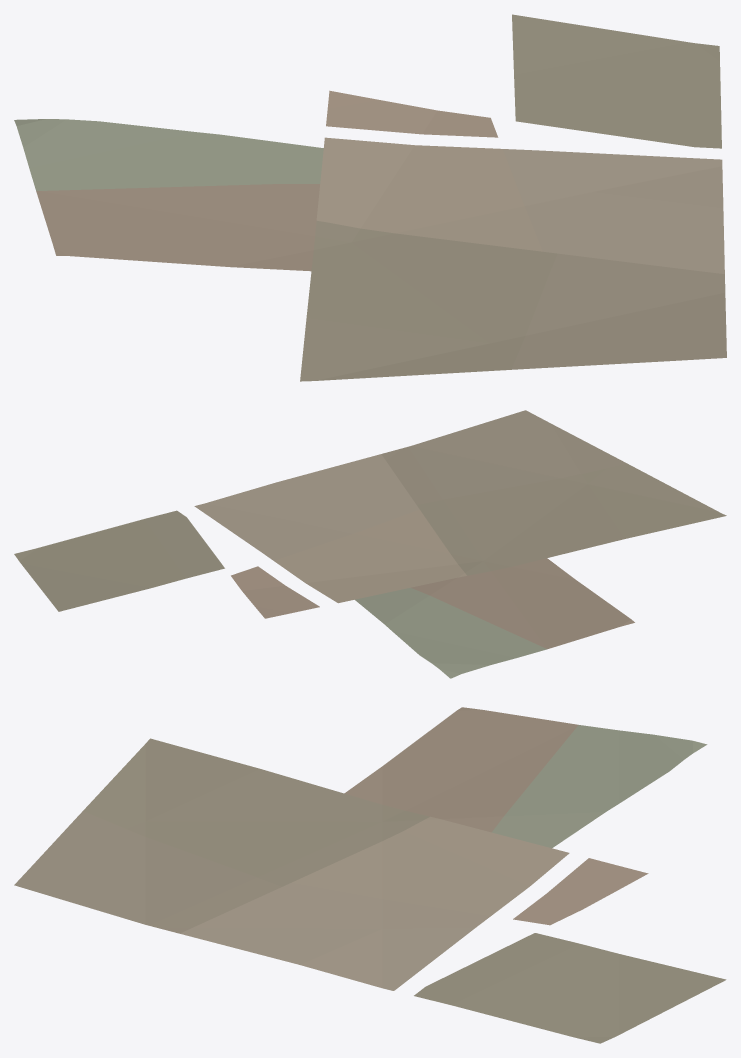
The model's file is farm_-3_16_soil.glb.
3 views of the same model, one above another, from view 1: azimuth 30°, elevation 25°; view 2: azimuth 150°, elevation 25°; view 3: azimuth 270°, elevation 25° (orthographic). The views are drawn at different scales.
Parts seen in each view (by area): view 1: geometry_0; view 2: geometry_0; view 3: geometry_0.
Part boxes in pixels (x1,y1,x2,y2): geometry_0: (14, 14, 726, 381); geometry_0: (14, 410, 726, 678); geometry_0: (14, 707, 726, 1043).
Size of the model in its own units: 248 by 12.26 by 241.
